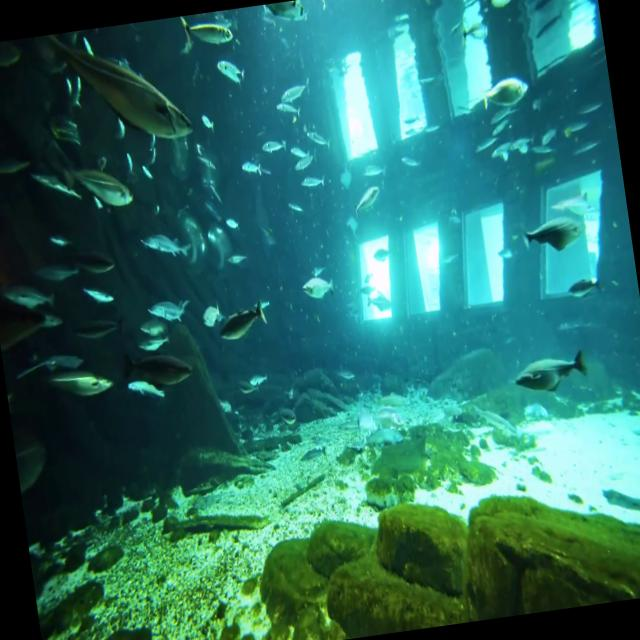fish: (39, 17, 192, 155), (54, 144, 134, 214), (118, 344, 197, 394), (513, 350, 594, 398), (523, 214, 589, 256), (215, 296, 269, 344), (138, 225, 192, 268), (476, 72, 535, 111), (178, 14, 234, 50), (146, 294, 190, 324), (300, 273, 336, 303)
